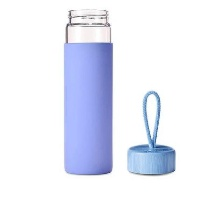bottle: (61, 4, 116, 176)
